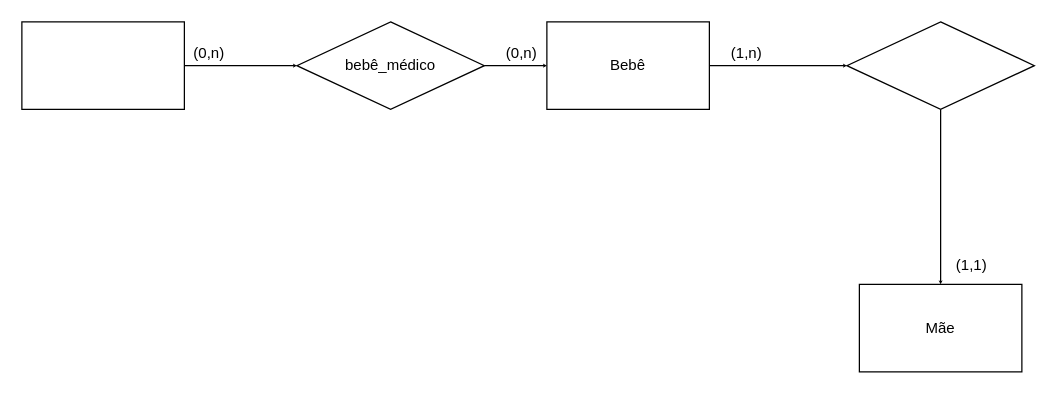
Image size: 1056x394. Some labels were removed from this diagram. The box of each missing label's shape, as (x1, y1, x2, y2) in pixels:
bebê_mãe: (846, 21, 1034, 109)
Médico: (21, 21, 184, 109)
